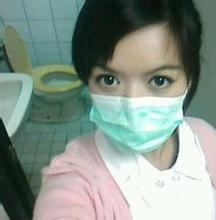face_mask: (90, 25, 188, 146)
